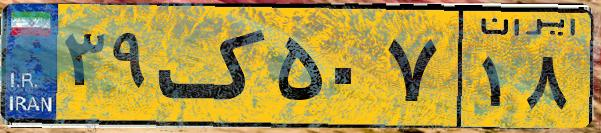0: (330, 28, 385, 110)
1: (475, 38, 525, 113)
3: (57, 26, 110, 100)
5: (270, 28, 330, 110)
7: (385, 28, 445, 110)
8: (525, 38, 570, 115)
9: (110, 28, 158, 98)
ک: (158, 12, 270, 120)
